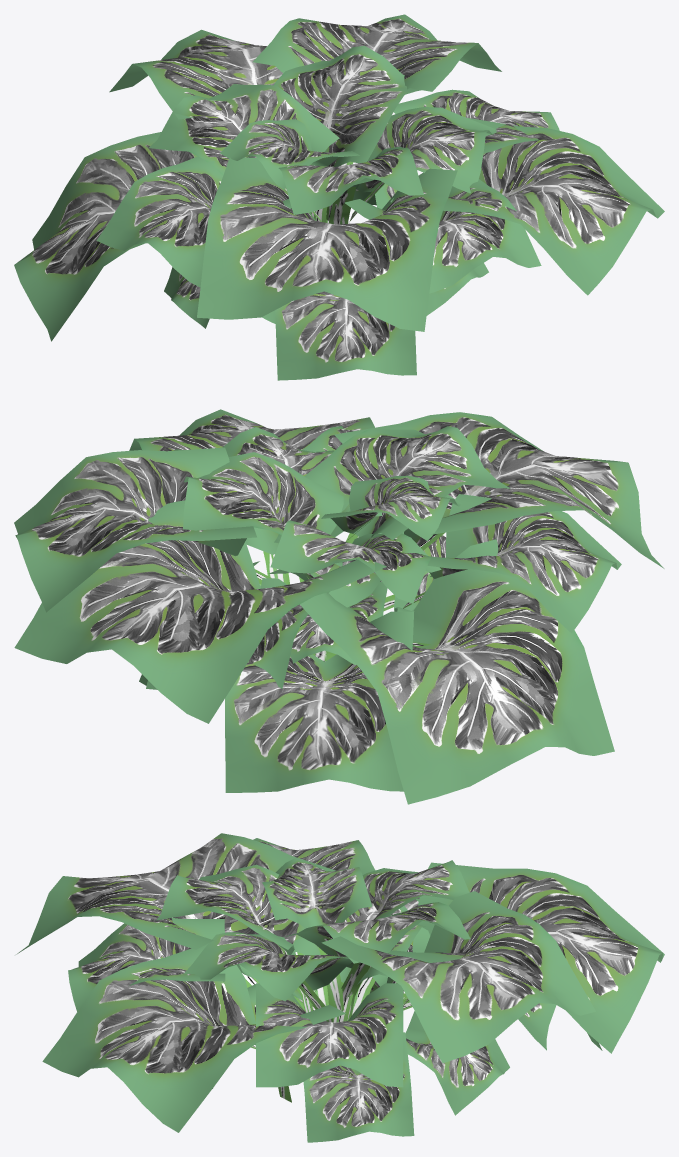
The model's file is SM_jungle_08.fbx.
3 renders of one model, top to bottom at view 1: azimuth 30°, elevation 25°; view 2: azimuth 150°, elevation 25°; view 3: azimuth 270°, elevation 25°, orthographic. The views are drawn at different scales.
Visible parts, largest first — view 1: SM_jungle_08_LOD0; view 2: SM_jungle_08_LOD0; view 3: SM_jungle_08_LOD0.
Part boxes in pixels (box(x1,y1,x2,y2)): SM_jungle_08_LOD0: box(14, 14, 664, 380); SM_jungle_08_LOD0: box(14, 409, 664, 804); SM_jungle_08_LOD0: box(16, 833, 664, 1142).
Bounding box in the file's own units: 179 × 187 × 63.19.
